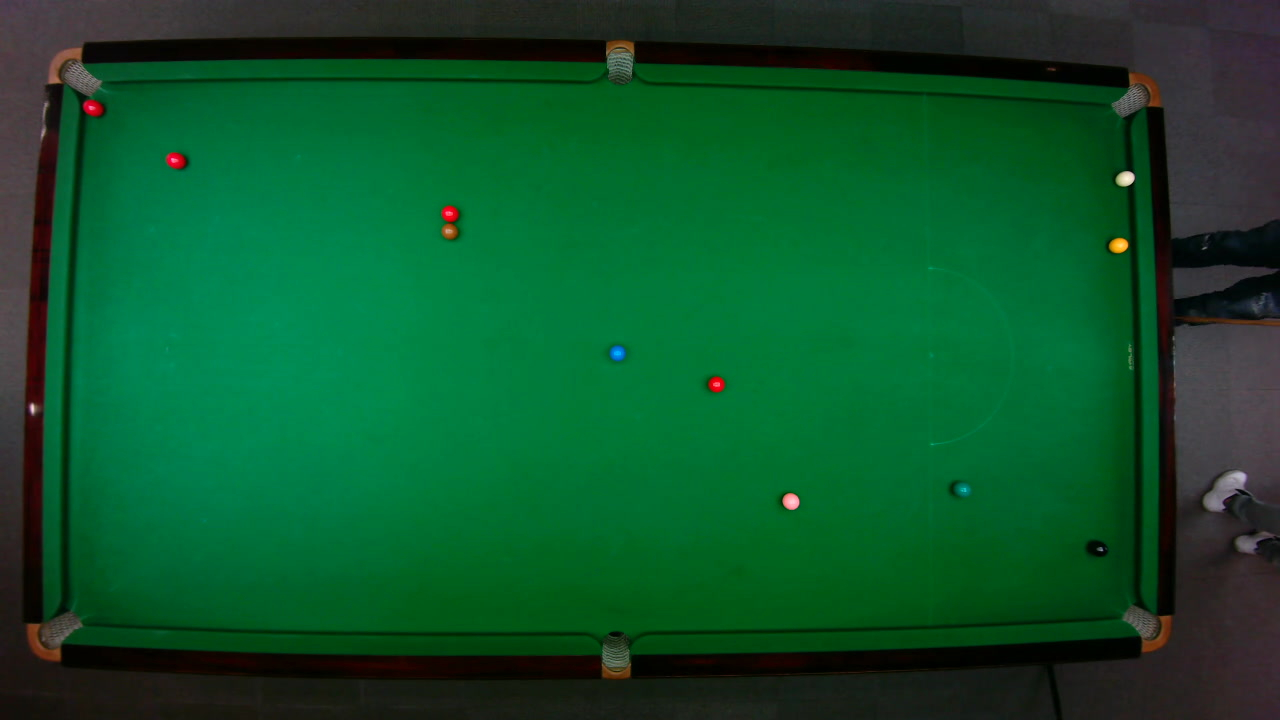bag: (25, 609, 84, 661), (45, 46, 102, 96), (1119, 603, 1172, 652), (1108, 71, 1161, 118), (600, 629, 629, 679), (605, 38, 633, 85)
black: (1087, 539, 1108, 557)
blue: (607, 344, 626, 361)
brown: (440, 223, 458, 240)
green: (950, 480, 971, 497)
pink: (780, 491, 800, 510)
red: (164, 150, 187, 169), (80, 98, 104, 116), (439, 204, 459, 222), (706, 374, 725, 392)
white: (1113, 169, 1136, 187)
yellow: (1107, 236, 1130, 253)
zone: (927, 265, 1013, 445)
